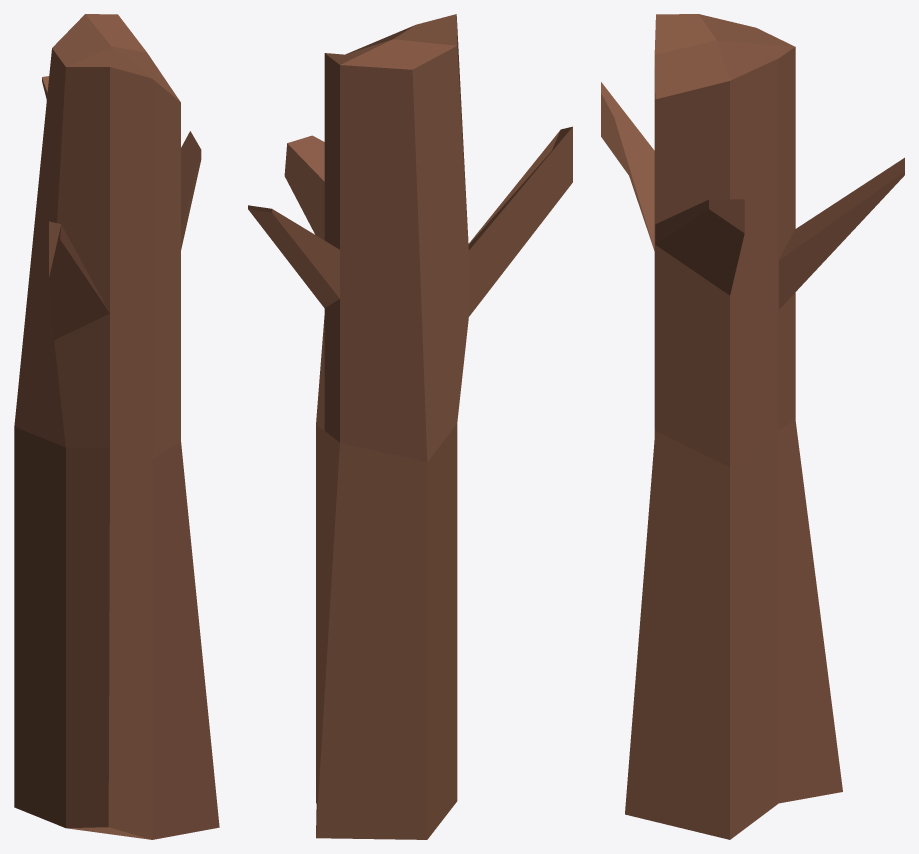
Rendered from Tree4.fbx.
3 views of the same model, side by side, from view 1: azimuth 30°, elevation 25°; view 2: azimuth 150°, elevation 25°; view 3: azimuth 270°, elevation 25° (orthographic). The views are drawn at different scales.
Visible parts, largest first — view 1: Tree_4; view 2: Tree_4; view 3: Tree_4.
Part boxes in pixels (x1,y1,x2,y2): Tree_4: [14, 14, 219, 839]; Tree_4: [248, 14, 572, 839]; Tree_4: [601, 14, 904, 839].
Size of the model in its own units: 5.16 by 18.02 by 6.39.
